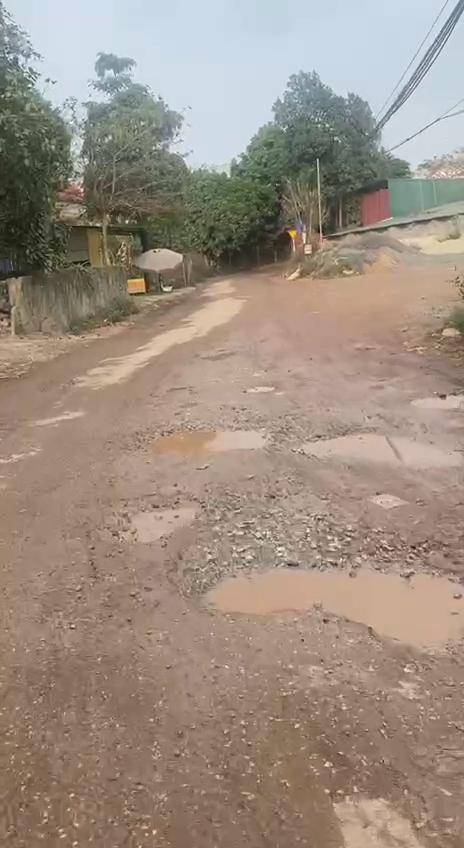pothole: (189, 540, 464, 666), (296, 420, 464, 472), (137, 418, 277, 455), (115, 494, 203, 542)
